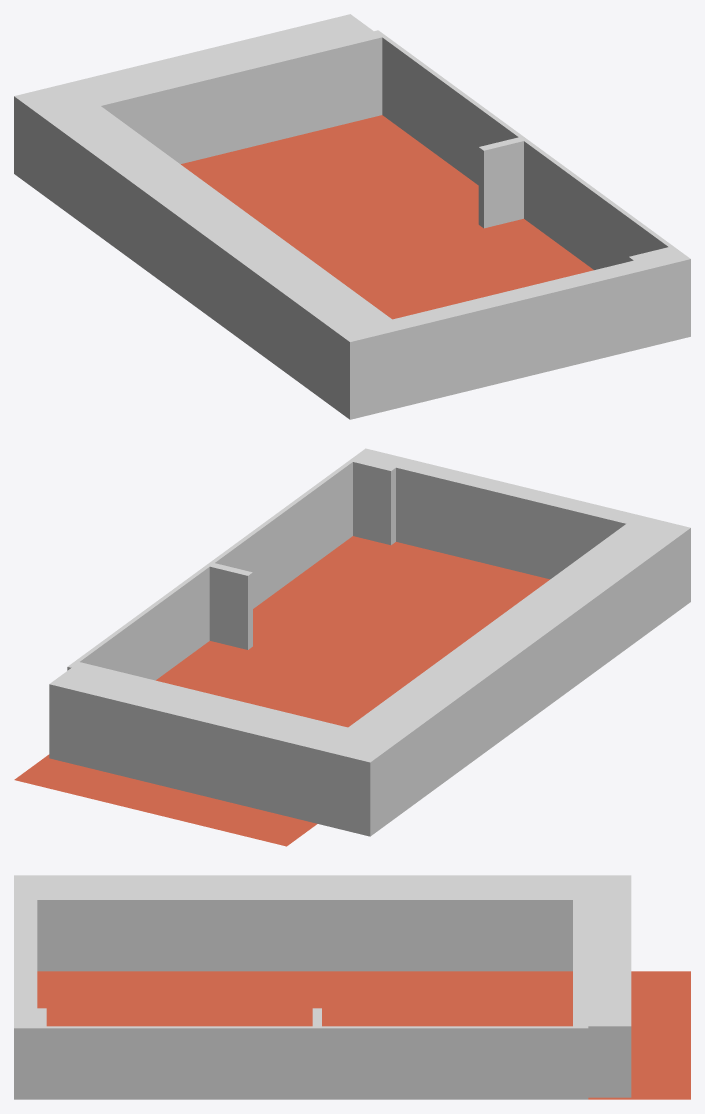
Rendered from library_collision.dae.
The picture shows the model from 3 angles, top to bottom: view 1: azimuth 30°, elevation 25°; view 2: azimuth 150°, elevation 25°; view 3: azimuth 270°, elevation 25°; orthographic projection. The views are drawn at different scales.
Visible parts, largest first — view 1: floor, library_wall, wall2, wall1, table; view 2: floor, wall2, library_wall, table, wall1; view 3: library_wall, table, floor, wall2, wall1.
Boxes of the visible parts, left/top/right/bottom form: floor: left=181, top=115, right=593, bottom=319; library_wall: left=45, top=106, right=391, bottom=409; wall2: left=14, top=14, right=382, bottom=196; wall1: left=337, top=250, right=690, bottom=419; table: left=374, top=30, right=677, bottom=269; floor: left=14, top=536, right=549, bottom=846; wall2: left=49, top=662, right=400, bottom=836; library_wall: left=348, top=524, right=678, bottom=813; table: left=67, top=457, right=395, bottom=680; wall1: left=354, top=448, right=690, bottom=610; library_wall: left=37, top=875, right=572, bottom=971; table: left=37, top=1008, right=588, bottom=1099; floor: left=37, top=971, right=690, bottom=1099; wall2: left=573, top=875, right=631, bottom=1097; wall1: left=14, top=875, right=37, bottom=1099.
Bounding box in the file's own units: 3.87 × 7.25 × 0.8431.
